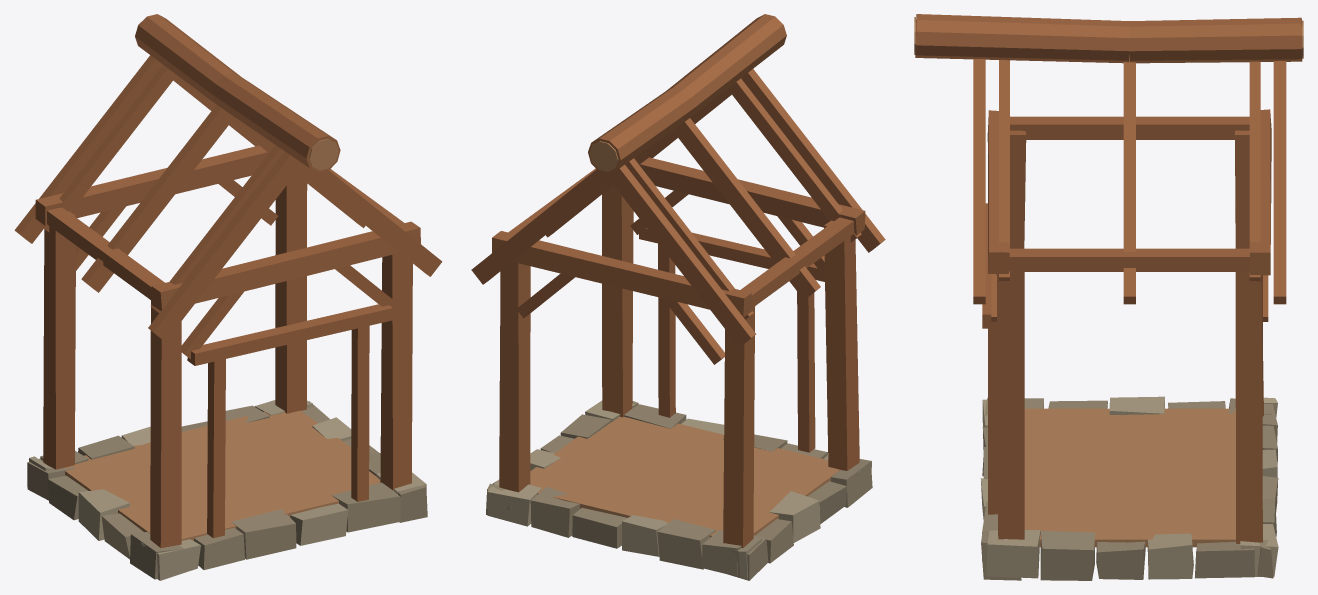
Rendered from feed-store-frame.glb.
3 views of the same model, side by side, from view 1: azimuth 30°, elevation 25°; view 2: azimuth 150°, elevation 25°; view 3: azimuth 270°, elevation 25° (orthographic). The views are drawn at different scales.
Parts seen in each view (by area): view 1: frame, floor, footing, ridge_log, footing_light, ridge_log_ends; view 2: frame, floor, footing, ridge_log, footing_light, ridge_log_ends; view 3: frame, floor, ridge_log, footing, footing_light.
Boxes of the visible parts, box(x1,y1,x2,y2) form: frame: box(14, 55, 442, 547); floor: box(63, 410, 380, 540); footing: box(27, 401, 427, 579); ridge_log: box(135, 14, 340, 172); footing_light: box(29, 400, 426, 580); ridge_log_ends: box(309, 139, 338, 170); frame: box(471, 69, 885, 547); floor: box(530, 416, 840, 537); footing: box(486, 401, 872, 580); ridge_log: box(588, 14, 786, 173); footing_light: box(487, 400, 871, 579); ridge_log_ends: box(589, 141, 618, 171); frame: box(973, 54, 1286, 543); floor: box(1024, 408, 1235, 547); ridge_log: box(915, 14, 1302, 63); footing: box(981, 397, 1278, 580); footing_light: box(980, 396, 1278, 579).
Size of the model in its own units: 2.71 by 3.9 by 2.81.
